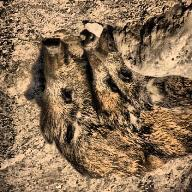boar: (36, 29, 102, 179)
